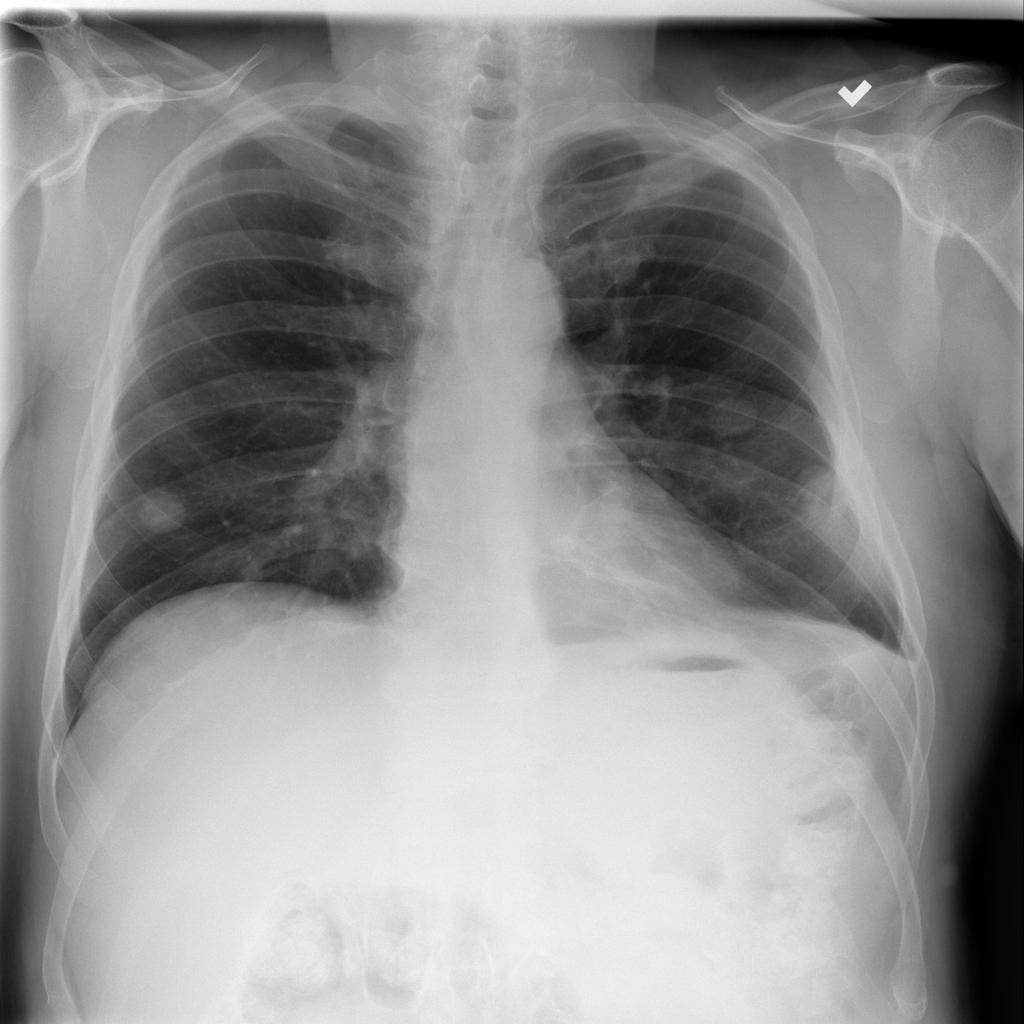nodule: (778, 450, 853, 524), (695, 382, 769, 453), (123, 474, 198, 543)
